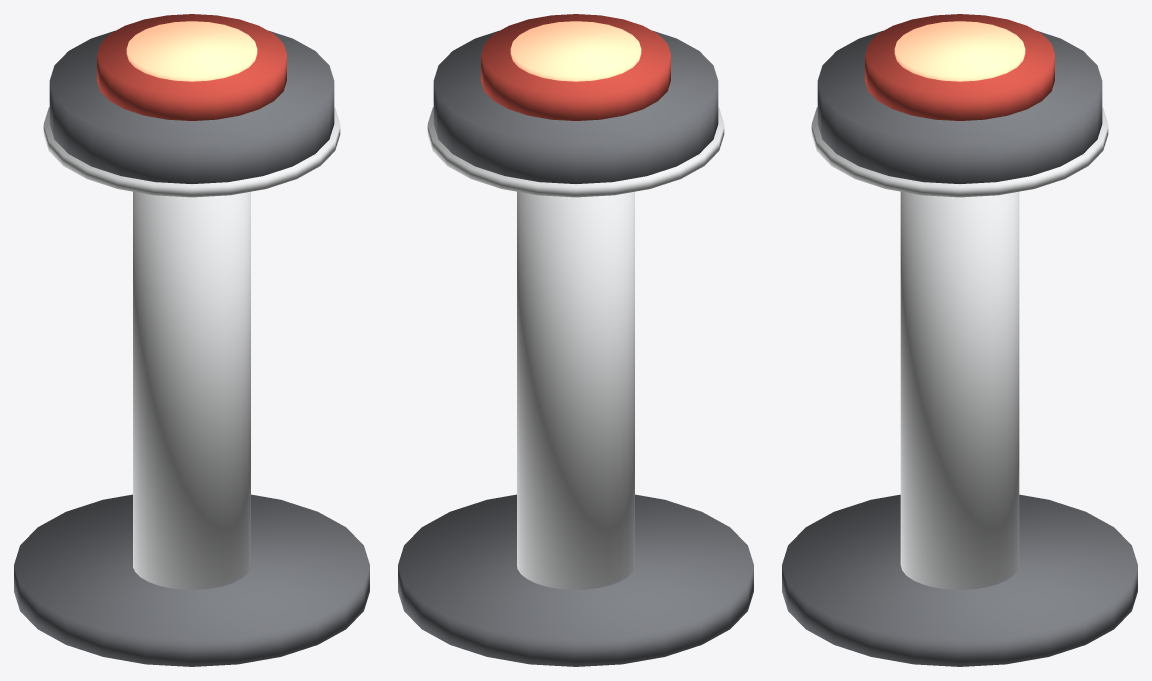
File: pushbutton.gltf
3 views of the same model, side by side, from view 1: azimuth 30°, elevation 25°; view 2: azimuth 150°, elevation 25°; view 3: azimuth 270°, elevation 25° (orthographic).
Visible parts, largest first — view 1: pushbutton; view 2: pushbutton; view 3: pushbutton.
Boxes of the visible parts, x1,y1,x2,y2 form: pushbutton: (14, 14, 369, 666); pushbutton: (398, 14, 753, 666); pushbutton: (782, 14, 1137, 666).
Size of the model in its own units: 0.6 by 1.01 by 0.6.
